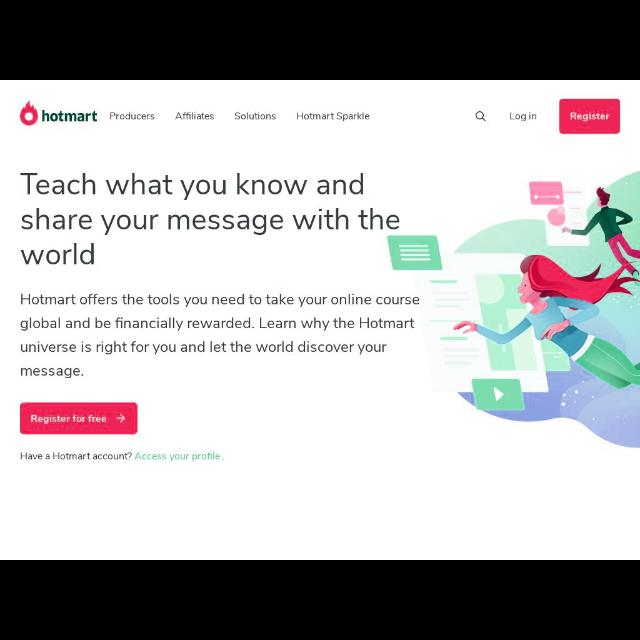icon: (476, 111, 486, 122), (115, 413, 125, 423)
image: (387, 172, 639, 448), (21, 102, 97, 128)
text: (21, 172, 400, 266), (19, 292, 418, 380), (20, 451, 226, 461), (29, 415, 106, 425), (296, 112, 370, 122), (109, 112, 155, 121), (570, 112, 610, 122), (234, 112, 276, 121), (174, 113, 213, 121), (508, 111, 538, 121)
textbutton: (20, 404, 136, 434), (560, 100, 620, 134)
